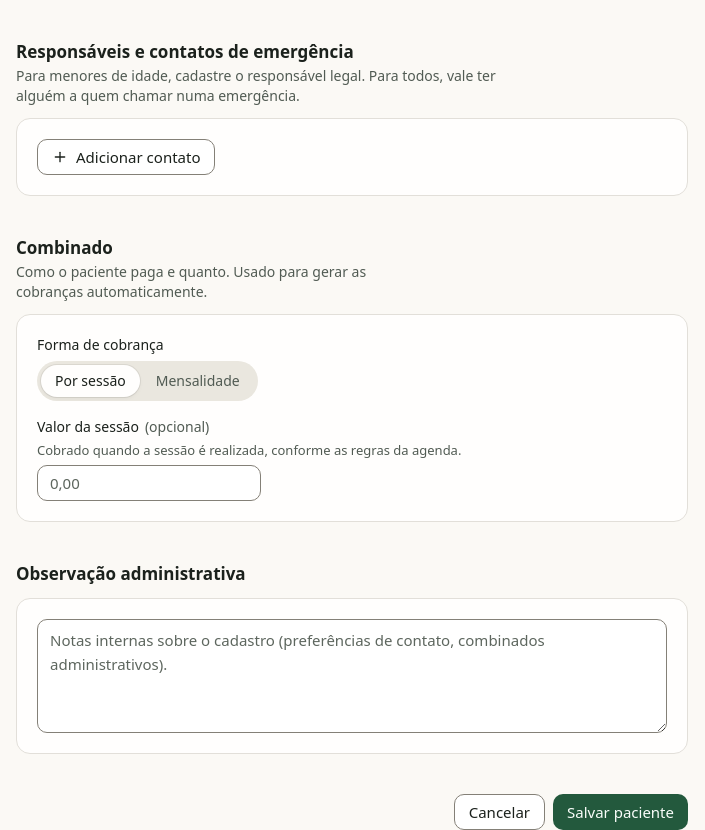
Test: FormularioPacientePage › bloqueia o envio com nome inválido e orienta o preenchimento
The image size is (705, 830).
(page scrolled)
Click the button "Salvar paciente": click(620, 812) x1=553 y1=794 x2=688 y2=829
(page scrolled)
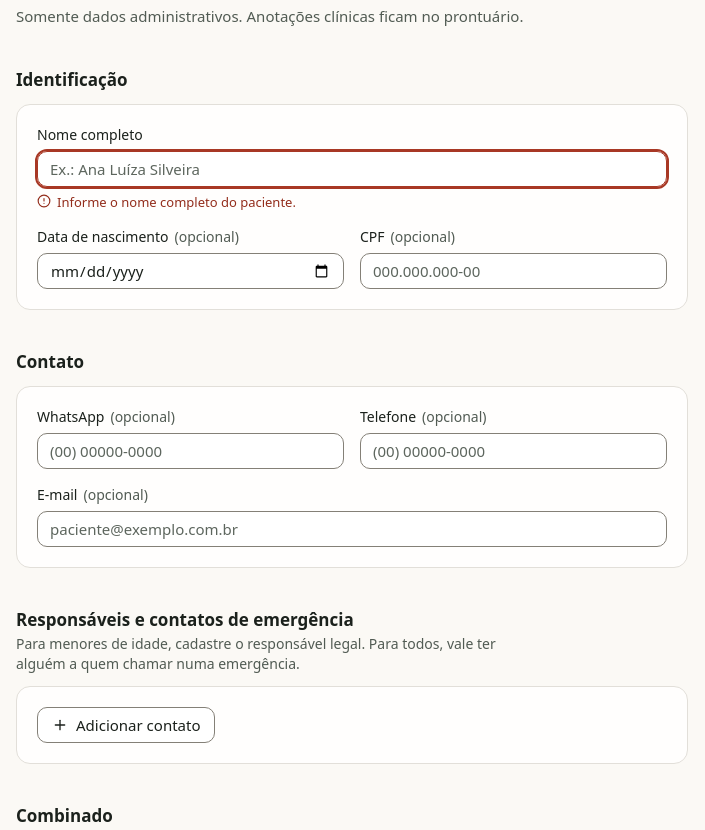
expect the text "Informe o nome completo do paciente." is shown: met, box x1=37 y1=193 x2=296 y2=211
